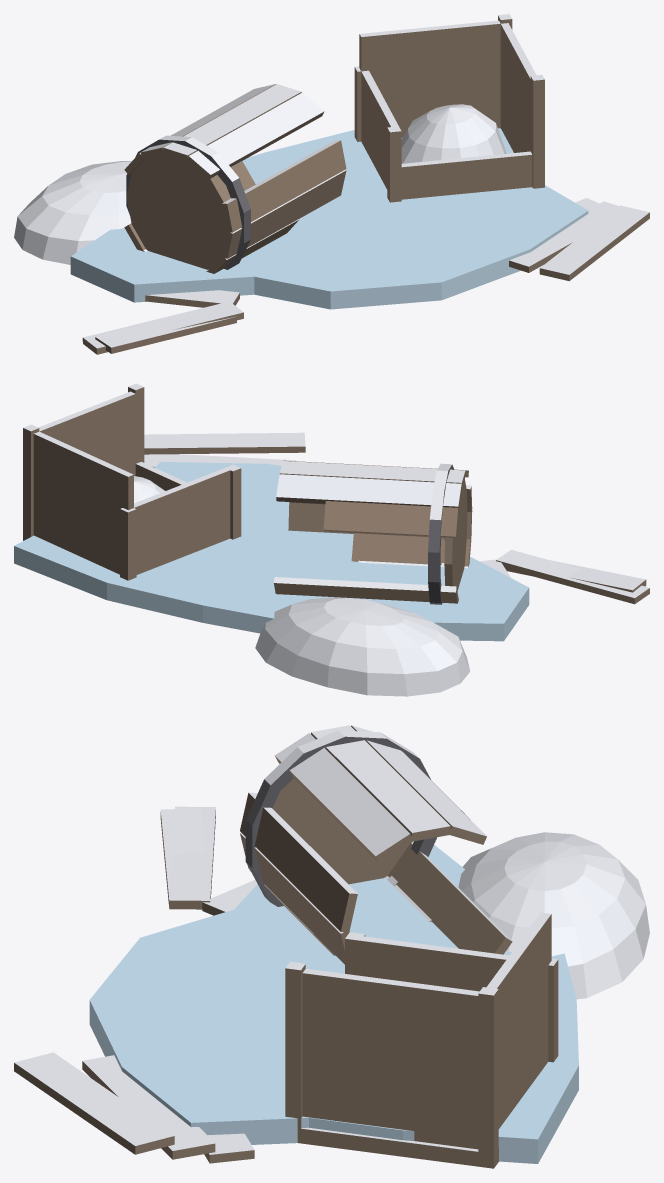
Rendered from PR_Cargas_B.fbx.
The picture shows the model from 3 angles, top to bottom: view 1: azimuth 30°, elevation 25°; view 2: azimuth 150°, elevation 25°; view 3: azimuth 270°, elevation 25°; orthographic projection. The views are drawn at different scales.
Visible parts, largest first — view 1: PR_Cargas_B; view 2: PR_Cargas_B; view 3: PR_Cargas_B.
Boxes of the visible parts, box(x1,y1,x2,y2) form: PR_Cargas_B: box(14, 14, 649, 354); PR_Cargas_B: box(14, 383, 649, 696); PR_Cargas_B: box(14, 725, 649, 1168).
Size of the model in its own units: 3.13 by 0.79 by 2.33.
